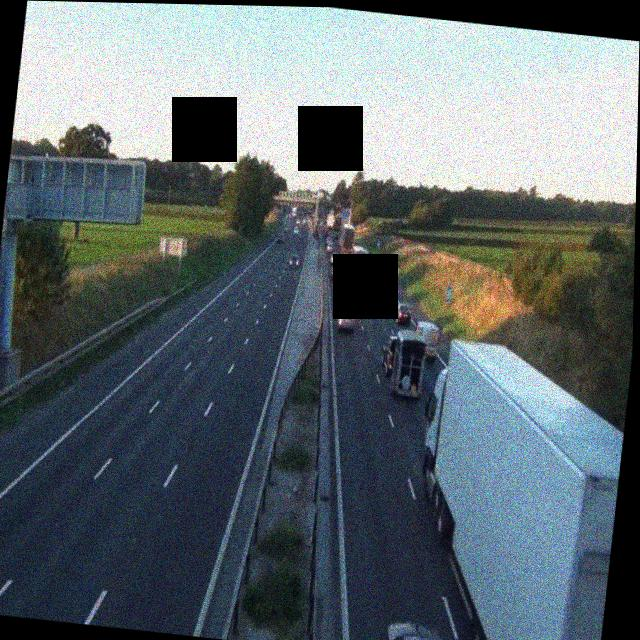bus: (349, 248, 370, 282)
car: (385, 619, 458, 640), (335, 305, 356, 332), (392, 302, 413, 325), (381, 281, 397, 300), (337, 275, 353, 294), (330, 263, 343, 280), (288, 254, 300, 269), (368, 262, 379, 278), (329, 250, 339, 264), (275, 232, 282, 244)
truck: (396, 335, 632, 640), (378, 325, 435, 398), (411, 318, 442, 366), (338, 220, 356, 256), (327, 212, 337, 232)
